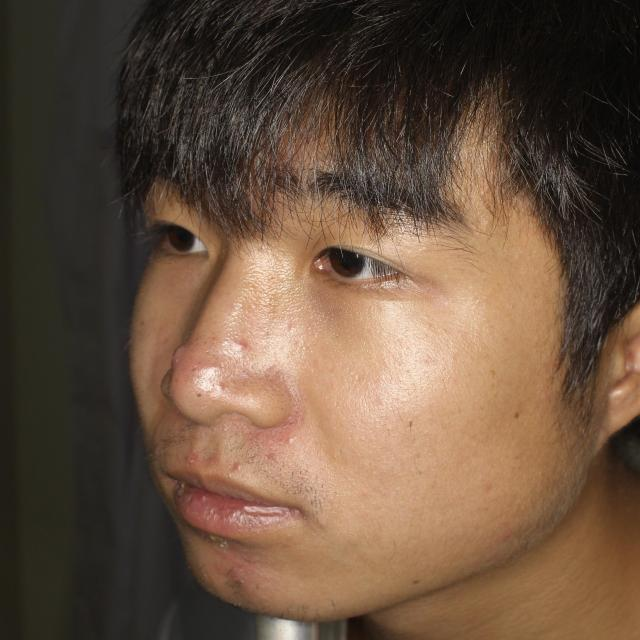comedone: (216, 559, 262, 594), (172, 449, 213, 474), (167, 336, 193, 374), (232, 330, 256, 366), (203, 356, 229, 384)
